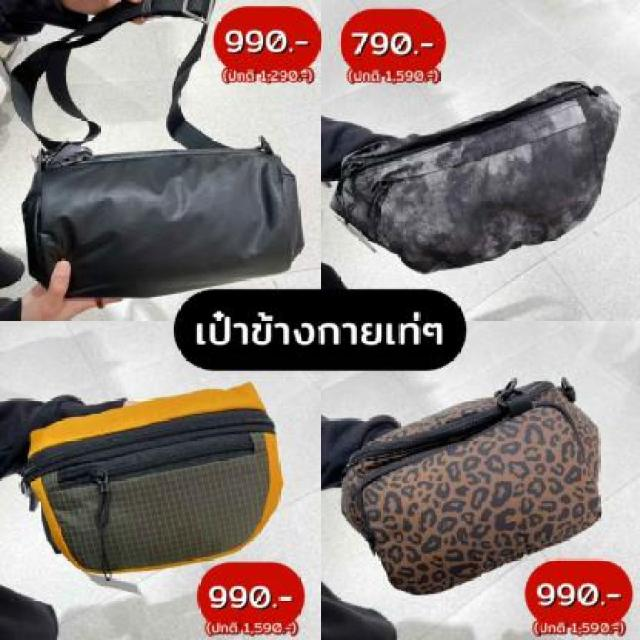Bag: (314, 366, 628, 628), (312, 31, 634, 286), (32, 79, 331, 332), (36, 350, 279, 595)
